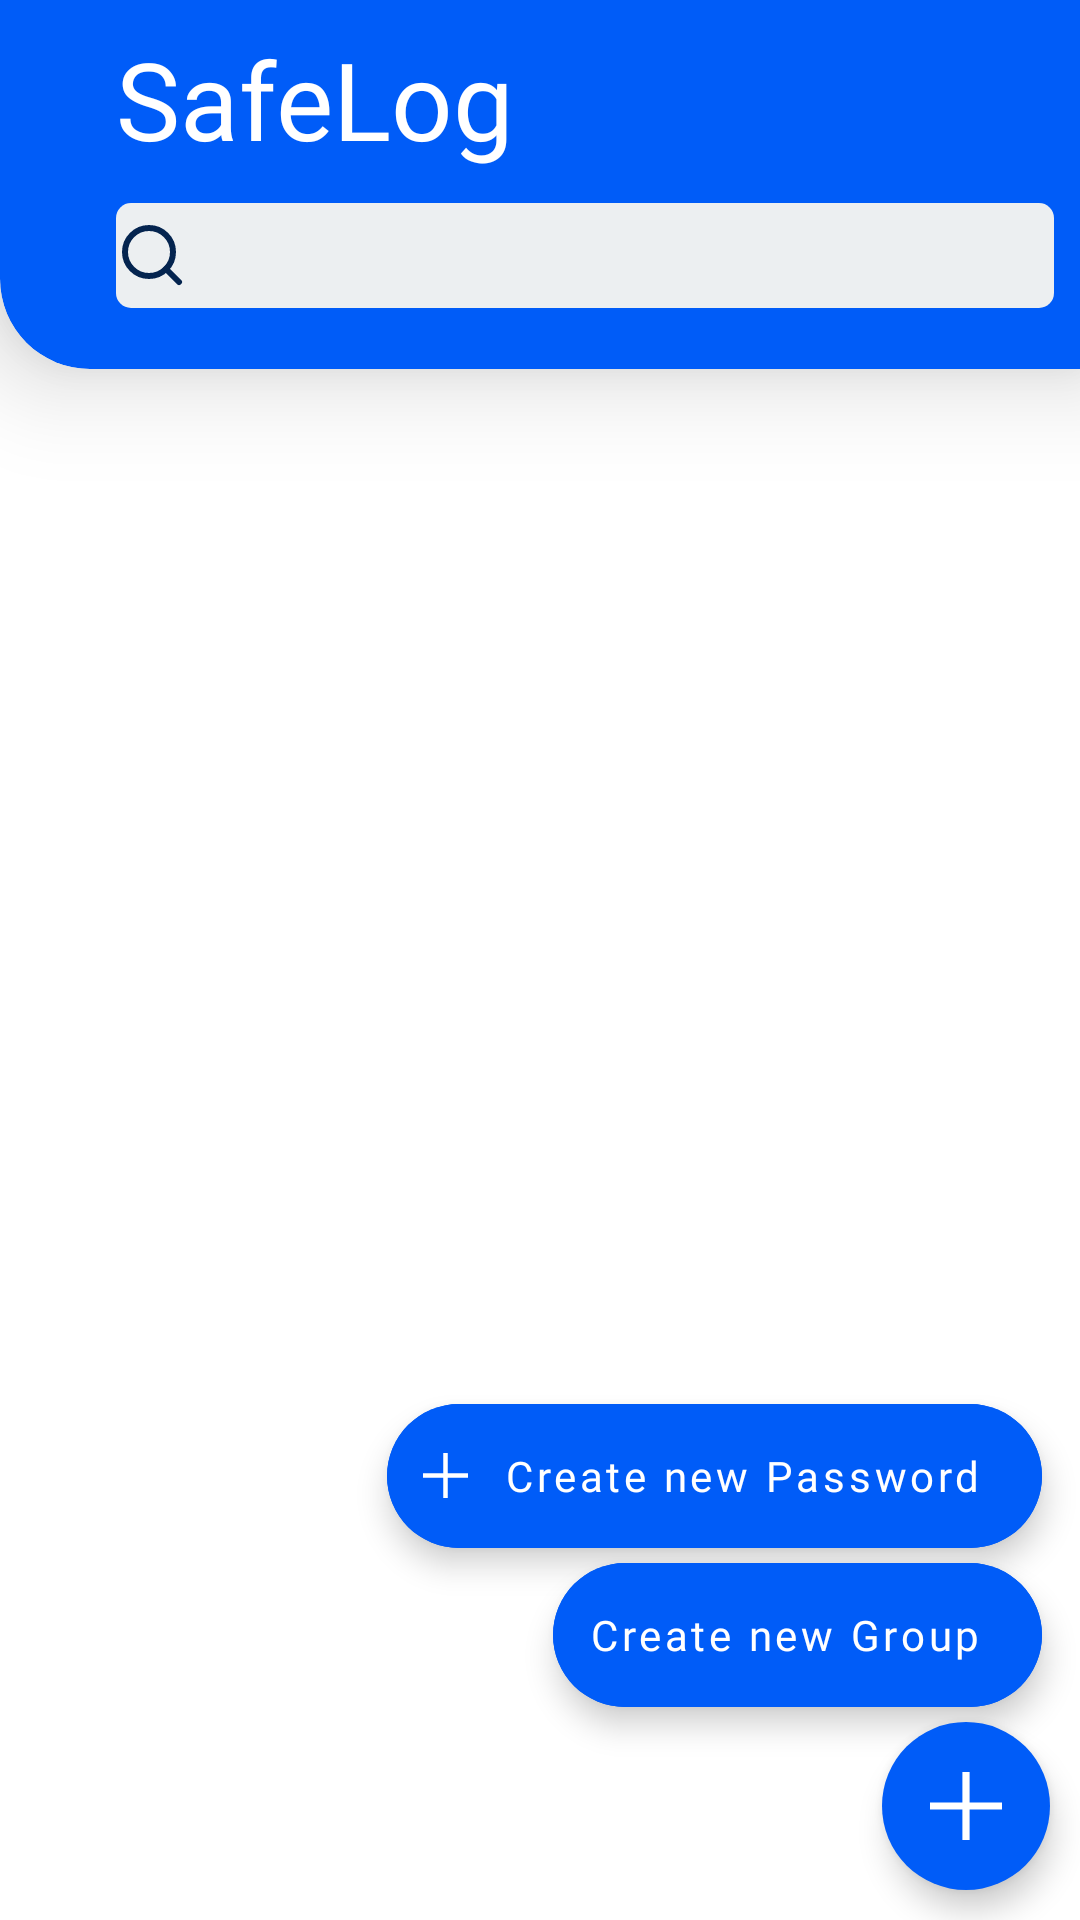

Where to tap for icons on this 1080x1920 app screen, as (x,y):
plus: (966,1806)
